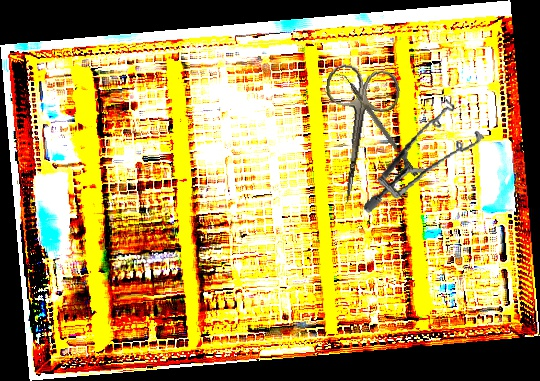Chopper: (334, 68, 419, 181)
Iris Scissors: (308, 62, 404, 210)
Speculum: (348, 94, 495, 215)
